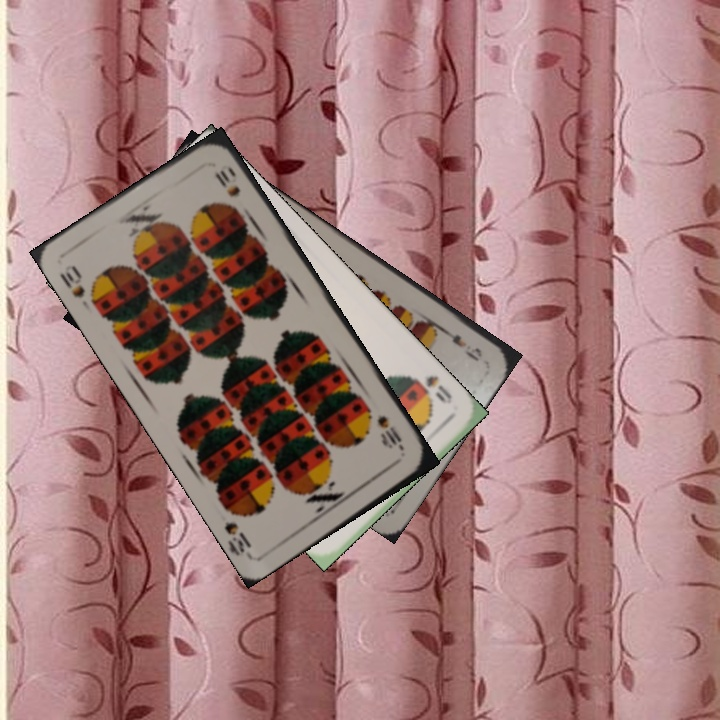E9: (436, 323, 486, 364)
S10: (372, 411, 407, 454), (55, 261, 88, 301)
SO: (421, 371, 455, 407)
